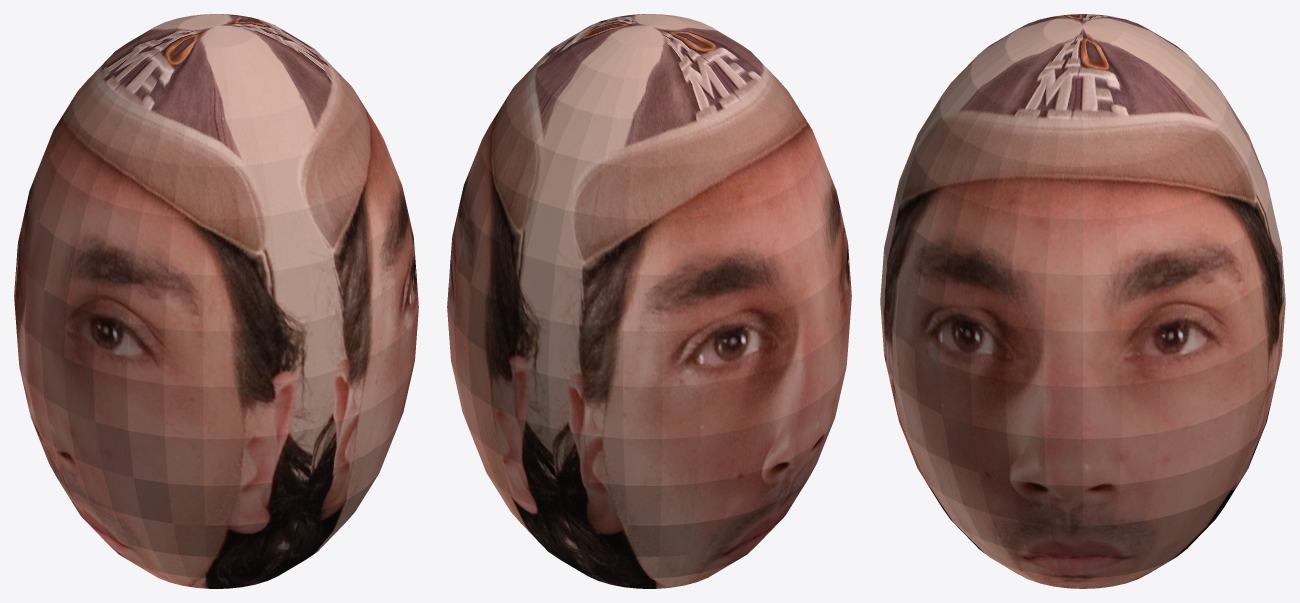
Rendered from Khuzin.ccb0209a.glb.
3 renders of one model, left to right at view 1: azimuth 30°, elevation 25°; view 2: azimuth 150°, elevation 25°; view 3: azimuth 270°, elevation 25°, orthographic.
Visible parts, largest first — view 1: Sphere; view 2: Sphere; view 3: Sphere.
Boxes of the visible parts, x1=… form: Sphere: x1=14, y1=14, x2=418, y2=588; Sphere: x1=447, y1=14, x2=851, y2=588; Sphere: x1=880, y1=14, x2=1285, y2=588.
Size of the model in its own units: 2 by 3 by 2.
1 material, 1 textured.
